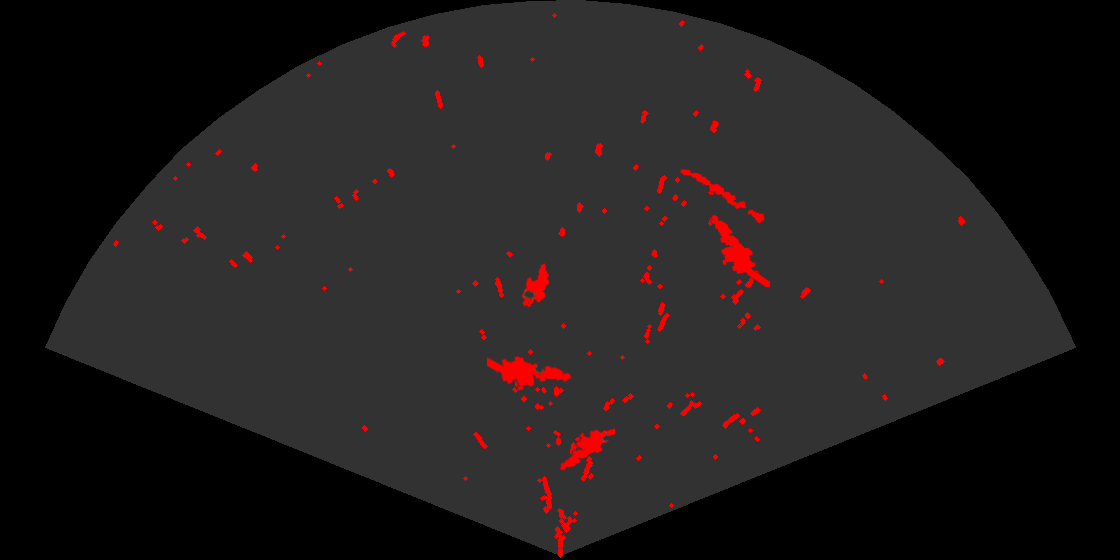AUV: (520, 262, 551, 309)
chain: (679, 167, 766, 225)
frogman: (709, 213, 770, 287), (487, 354, 573, 392), (558, 427, 615, 472)
